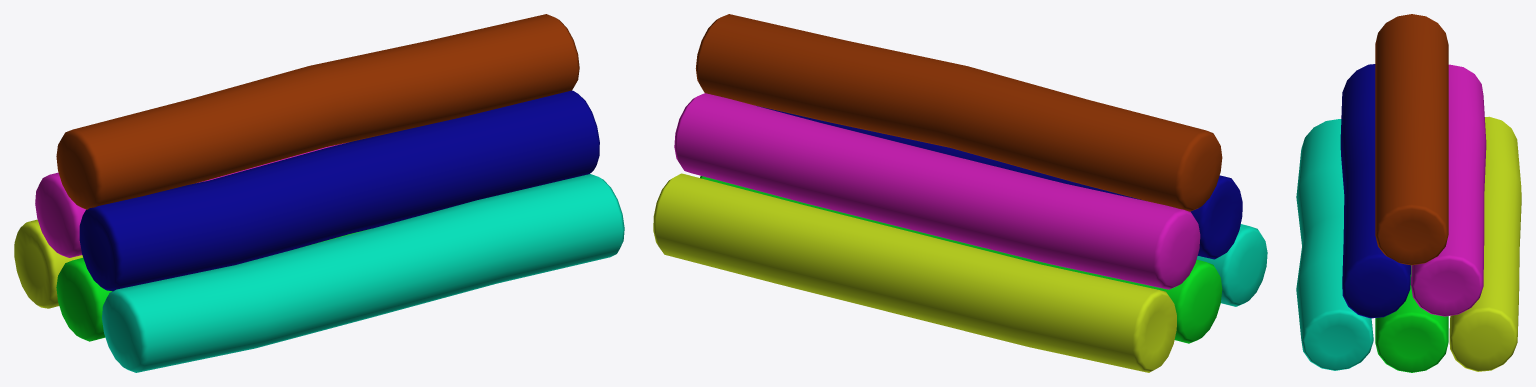
File: Ddeok.fbx
3 renders of one model, left to right at view 1: azimuth 30°, elevation 25°; view 2: azimuth 150°, elevation 25°; view 3: azimuth 270°, elevation 25°, orthographic. The views are drawn at different scales.
Visible parts, largest first — view 1: Ddeok; view 2: Ddeok; view 3: Ddeok.
Boxes of the visible parts, x1,y1,x2,y2 form: Ddeok: [14, 14, 624, 372]; Ddeok: [653, 14, 1267, 372]; Ddeok: [1296, 14, 1521, 372].
Bounding box in the file's own units: 62.36 × 25.83 × 30.38.
